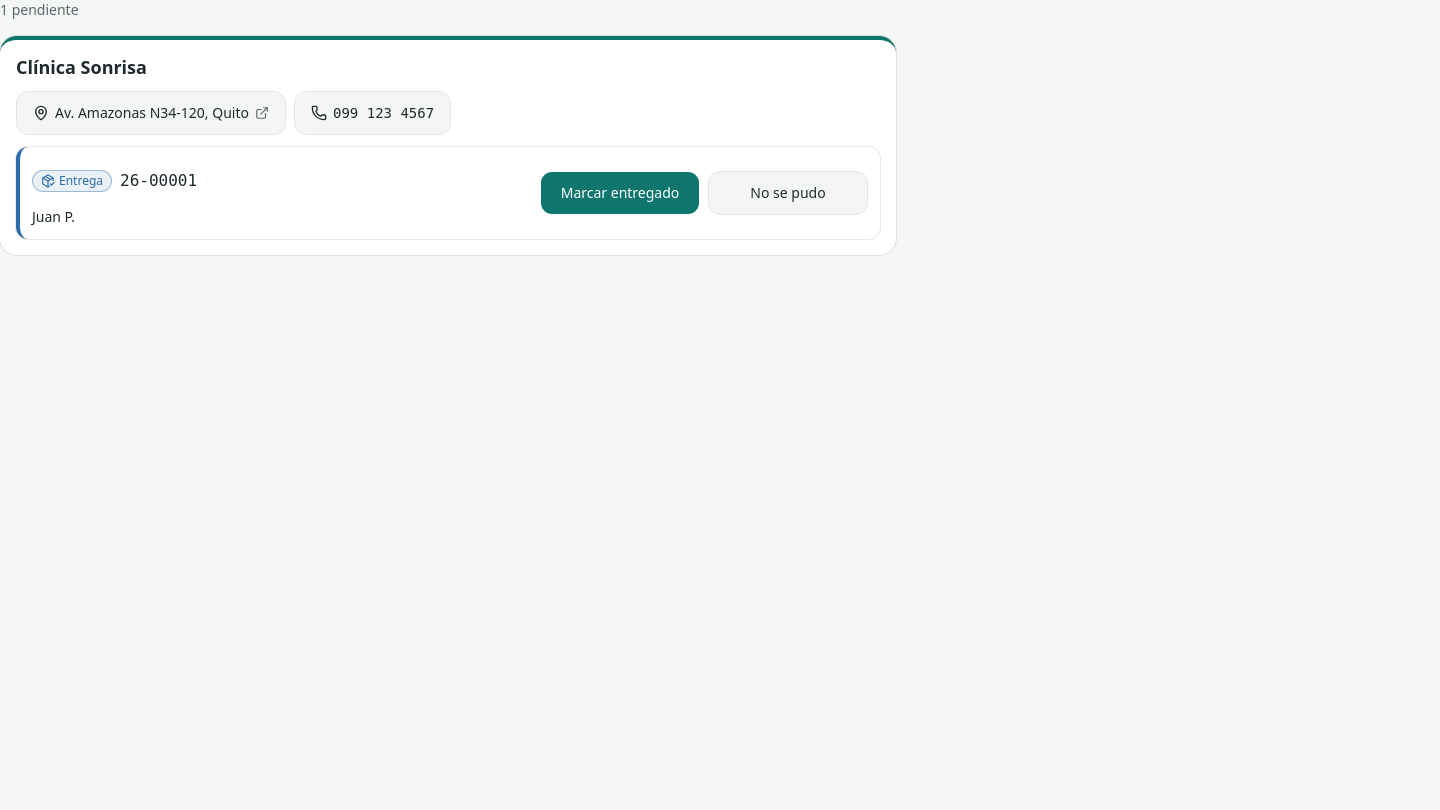
Test: DeliveriesDay › una entrega pendiente ofrece «Marcar entregado», que abre el diálogo de la constancia
Click the button "Marcar entregado" at (620, 192), box [540, 170, 700, 214]
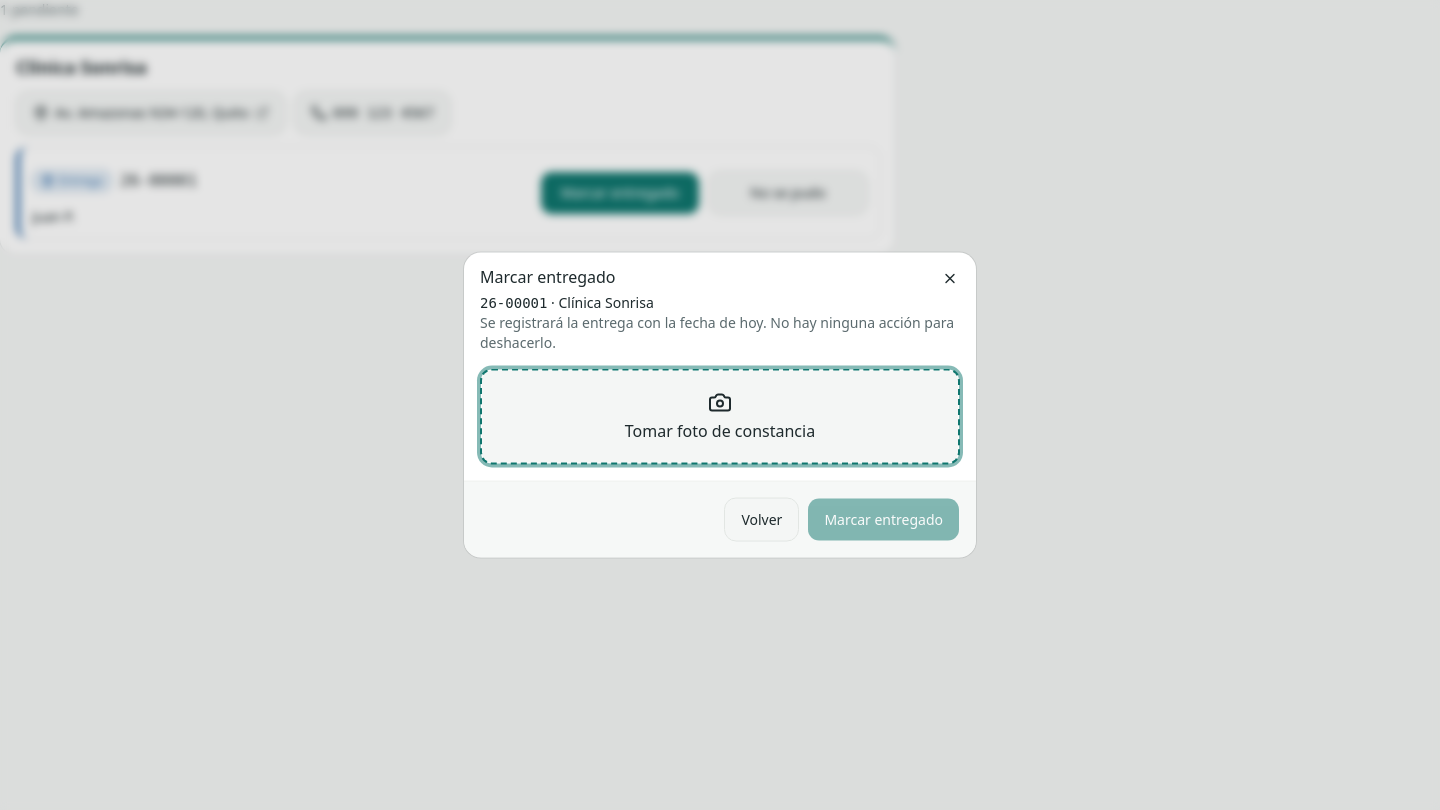
Expected: the button "Tomar foto de constancia" is shown, [480, 368, 960, 464]
